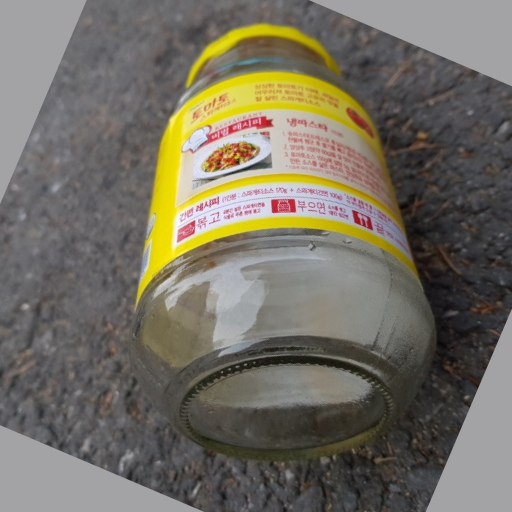Glass_5: (129, 21, 439, 455)
